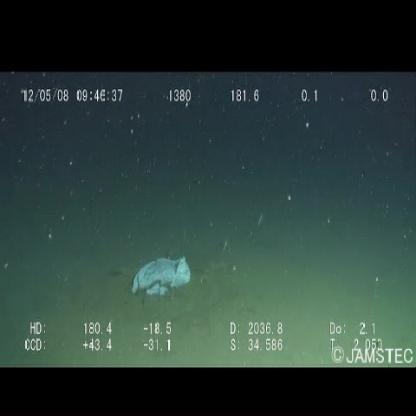Rác: (127, 254, 194, 298)
